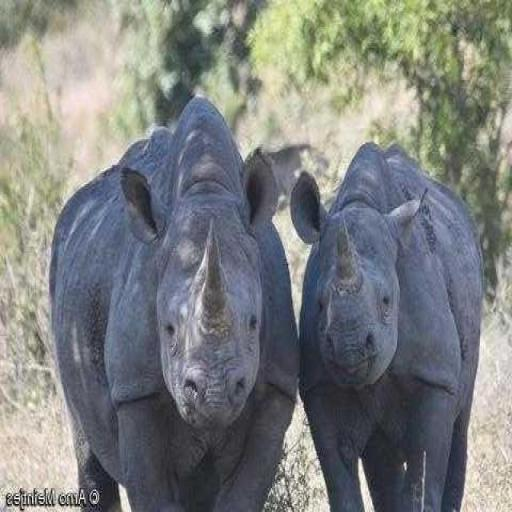Rhino: (46, 92, 300, 510), (290, 140, 484, 510)
